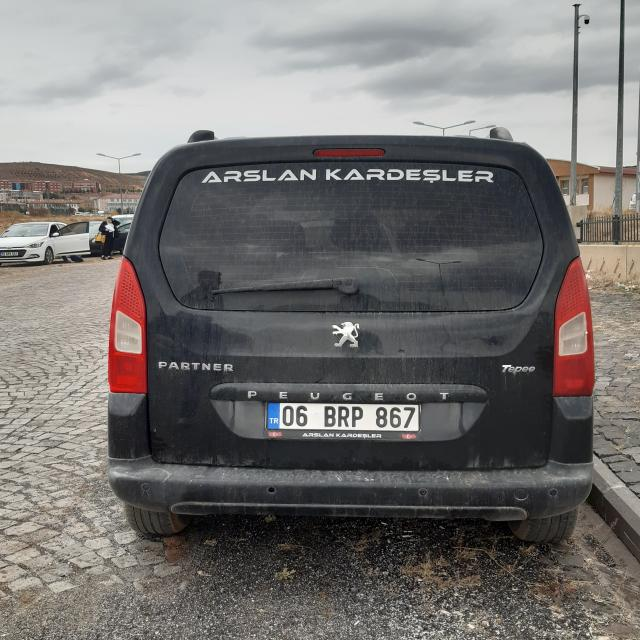license_plate: (267, 403, 419, 429)
